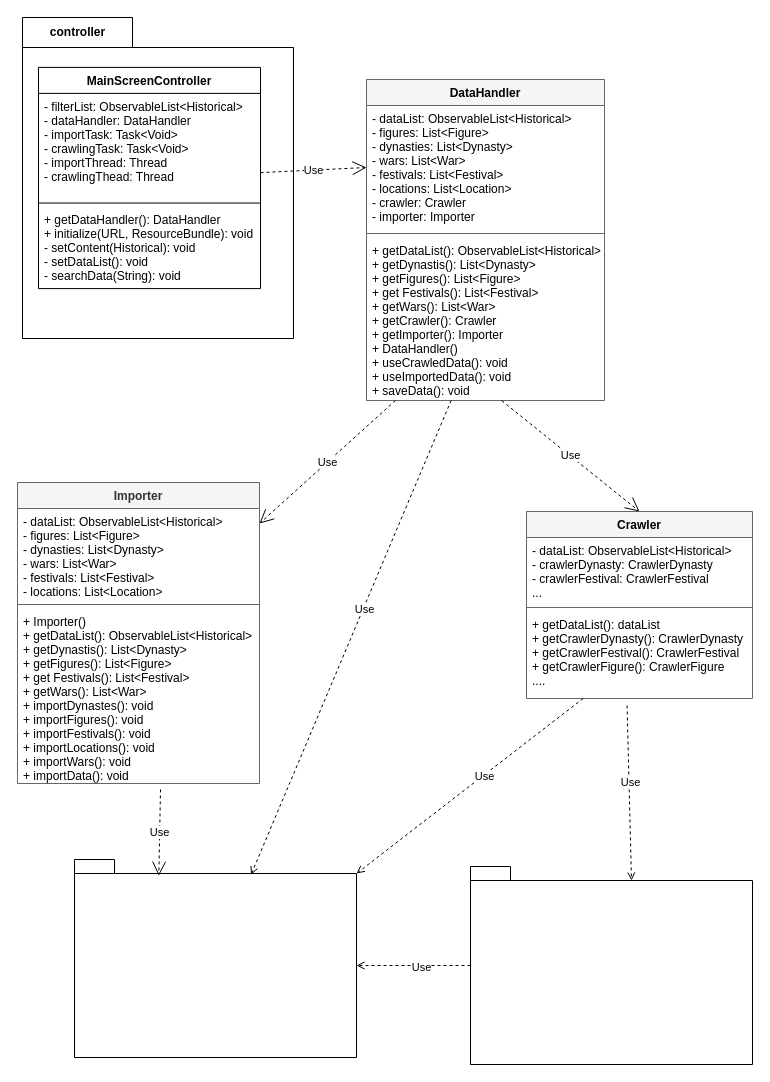
The diagram is 770 pixels wide and 1082 high, and some of its shapes have lost their labels. Each missing label, with the centre of its shape:
crawlertools: (x=611, y=965)
entity: (x=215, y=958)
